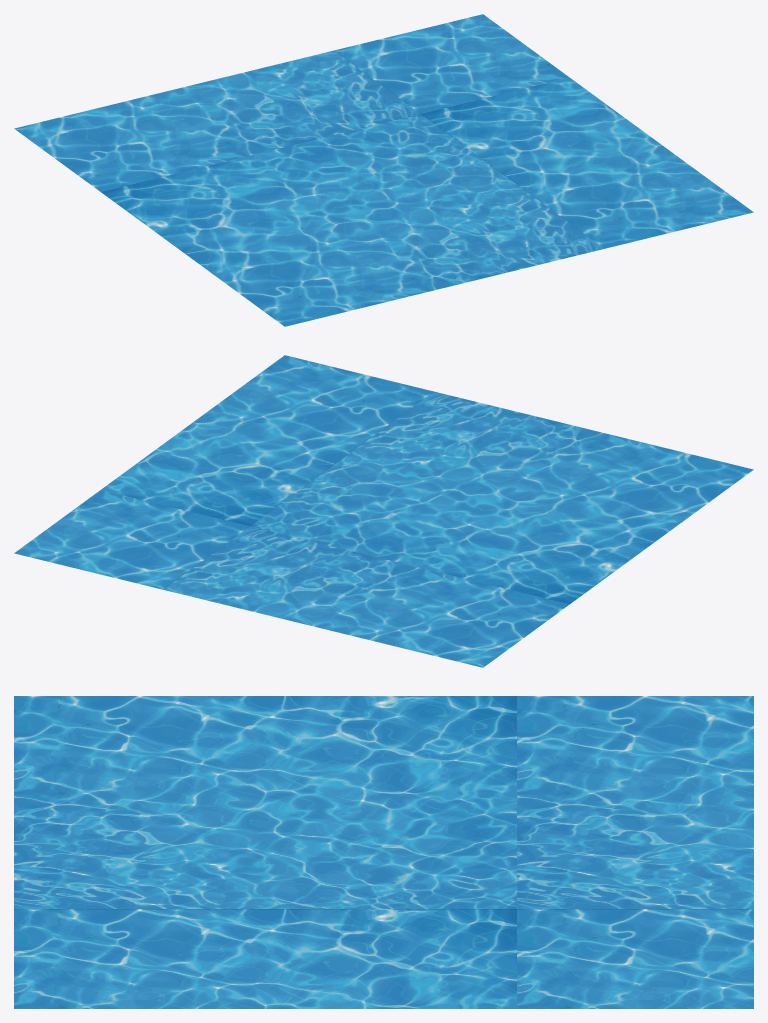
File: Agua_HV.obj
3 views of the same model, one above another, from view 1: azimuth 30°, elevation 25°; view 2: azimuth 150°, elevation 25°; view 3: azimuth 270°, elevation 25° (orthographic). The views are drawn at different scales.
Parts seen in each view (by area): view 1: Agua_HV:Sea1; view 2: Agua_HV:Sea1; view 3: Agua_HV:Sea1.
Part boxes in pixels (box(x1,y1,x2,y2)): Agua_HV:Sea1: box(14, 14, 753, 326); Agua_HV:Sea1: box(14, 355, 753, 667); Agua_HV:Sea1: box(14, 696, 753, 1008).
Size of the model in its own units: 152 by 0 by 152.
1 material, 1 textured.
